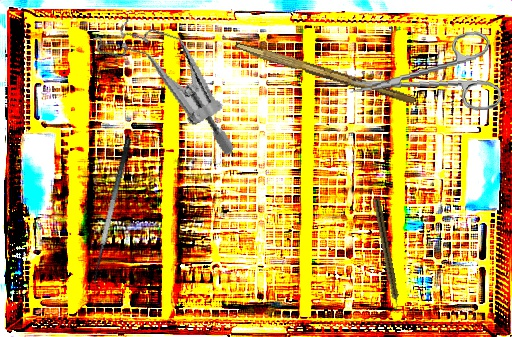Handpiece: (371, 198, 402, 313)
Iris Scissors: (345, 29, 503, 124)
Scalpel Handle: (232, 41, 418, 106)
Spatula Surgical: (86, 137, 145, 287)
Speculum: (71, 8, 263, 157)
